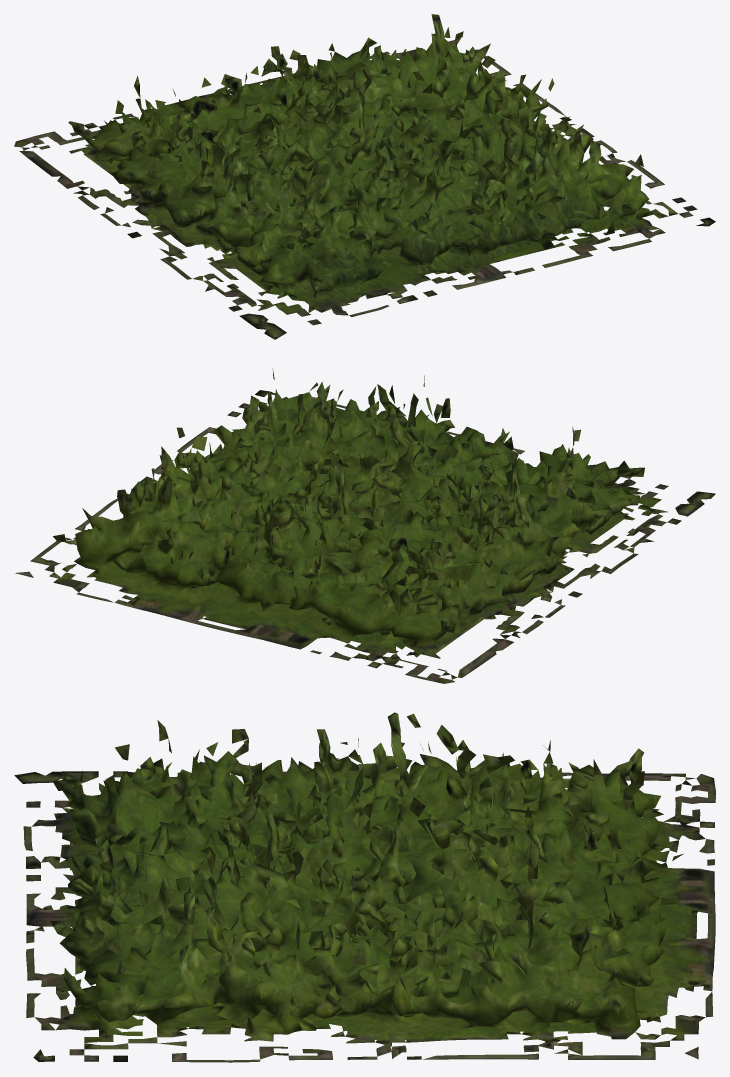
Rendered from grass.glb.
3 views of the same model, one above another, from view 1: azimuth 30°, elevation 25°; view 2: azimuth 150°, elevation 25°; view 3: azimuth 270°, elevation 25° (orthographic). The views are drawn at different scales.
Size of the model in its own units: 2.01 by 0.3715 by 2.05.
Materials: 1 (1 with a texture image).
